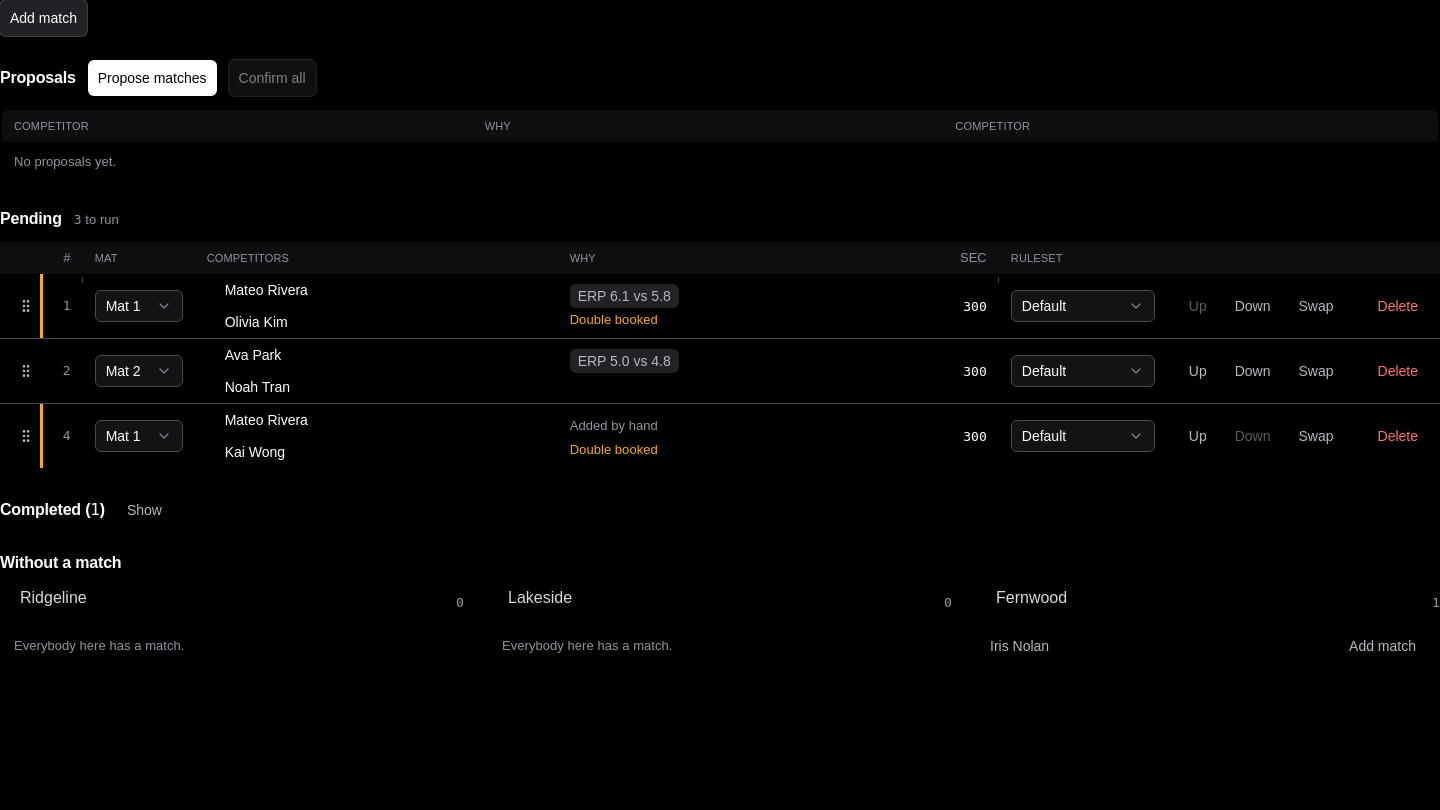
Test case: MatchesTab › marks a double-booked competitor in the kid picker list
Click the button named "Swap Ava Park, Ridgeline": (233, 363) [199,339,554,371]
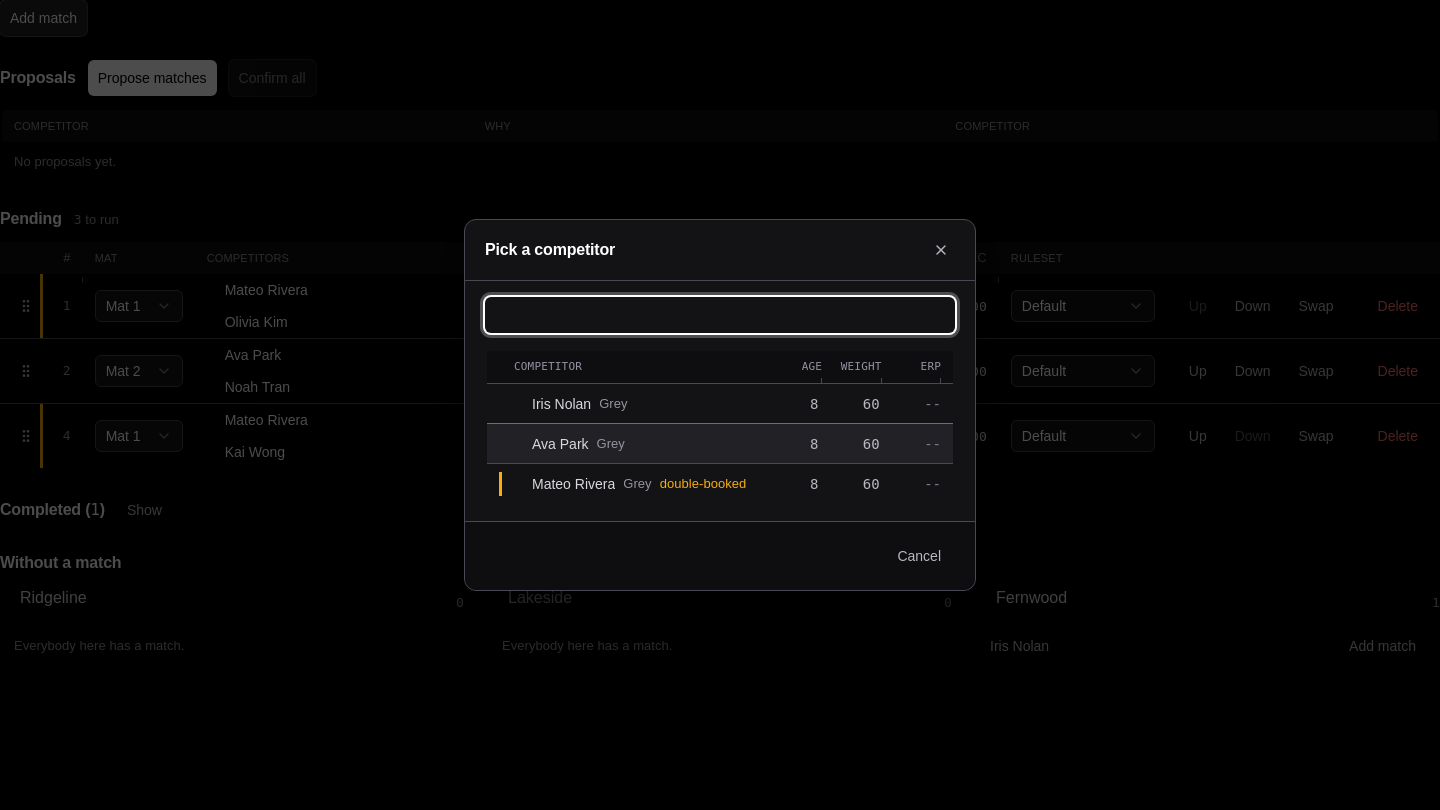
Expected: the text "double-booked" is shown, [660,474,746,492]
